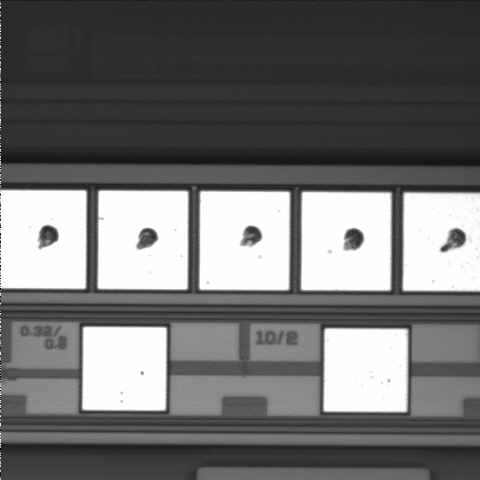pad: (200, 191, 290, 290), (98, 191, 188, 289), (301, 192, 391, 290), (83, 327, 166, 410), (324, 329, 407, 412)
